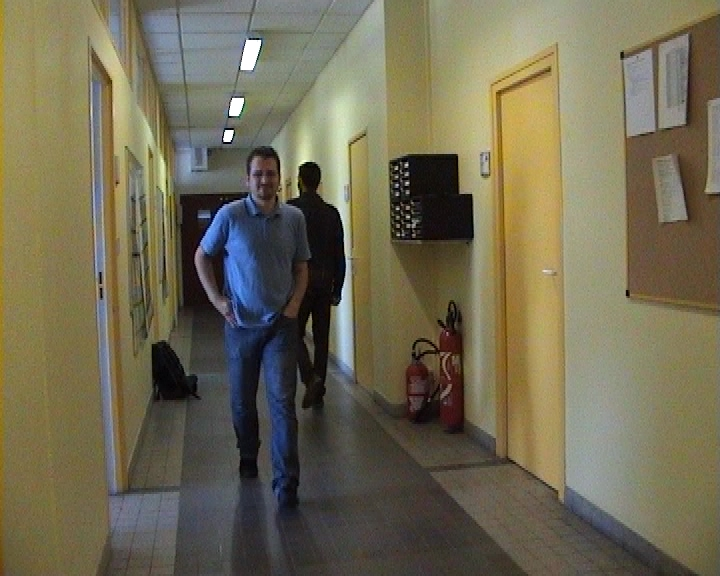leave bag unattended: (137, 294, 419, 490)
